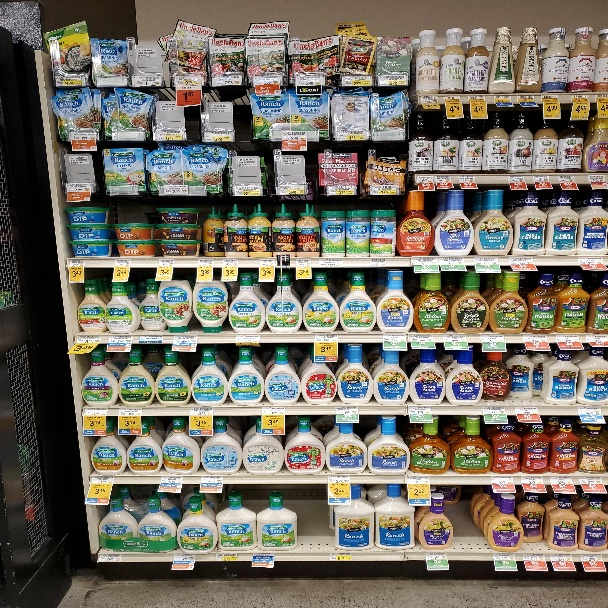All PRICE TAGS: (296, 74, 323, 86), (204, 131, 232, 142), (214, 74, 242, 85), (133, 76, 162, 86), (253, 74, 279, 85), (343, 76, 371, 86), (412, 256, 438, 266), (155, 131, 183, 140), (339, 131, 366, 140), (175, 78, 202, 87), (381, 75, 408, 84), (281, 131, 307, 140), (579, 475, 602, 485), (584, 334, 608, 343), (98, 553, 121, 562), (68, 183, 91, 192), (480, 334, 505, 342), (523, 335, 548, 343), (474, 257, 499, 265), (71, 131, 96, 139), (261, 406, 285, 414), (549, 553, 573, 561), (549, 476, 573, 484), (490, 475, 514, 483), (577, 407, 601, 415), (443, 335, 467, 343), (162, 186, 186, 194), (108, 335, 132, 343), (425, 552, 448, 560), (580, 553, 603, 561), (407, 476, 430, 484), (408, 406, 431, 414), (411, 334, 434, 342), (556, 334, 579, 342), (315, 334, 338, 342), (577, 257, 603, 264), (217, 552, 237, 561), (252, 553, 274, 561), (173, 553, 195, 561), (328, 475, 350, 483), (201, 476, 223, 484), (92, 475, 114, 483), (119, 407, 141, 415), (493, 553, 515, 561), (320, 259, 342, 267), (481, 407, 506, 414), (514, 407, 539, 414), (330, 552, 351, 560), (189, 408, 213, 415), (520, 476, 544, 483), (509, 257, 533, 264), (440, 257, 464, 264), (373, 186, 394, 194), (236, 335, 260, 342), (335, 406, 358, 413), (139, 336, 162, 343), (173, 336, 196, 343), (382, 334, 405, 341), (160, 476, 182, 483), (85, 408, 107, 415), (329, 187, 351, 194), (421, 95, 438, 104), (557, 175, 576, 183), (571, 94, 590, 102), (467, 95, 486, 103), (443, 95, 462, 103), (234, 187, 259, 193), (79, 335, 100, 342), (516, 95, 534, 103), (522, 554, 545, 560), (588, 175, 605, 183), (494, 95, 511, 103), (369, 258, 386, 266), (531, 175, 550, 182), (541, 95, 560, 102), (295, 259, 311, 267), (416, 176, 434, 183), (435, 175, 452, 182), (68, 260, 85, 267), (507, 176, 526, 182), (115, 259, 131, 266), (158, 259, 174, 266), (197, 259, 213, 266), (222, 259, 238, 266), (260, 259, 276, 266), (458, 176, 475, 182)
